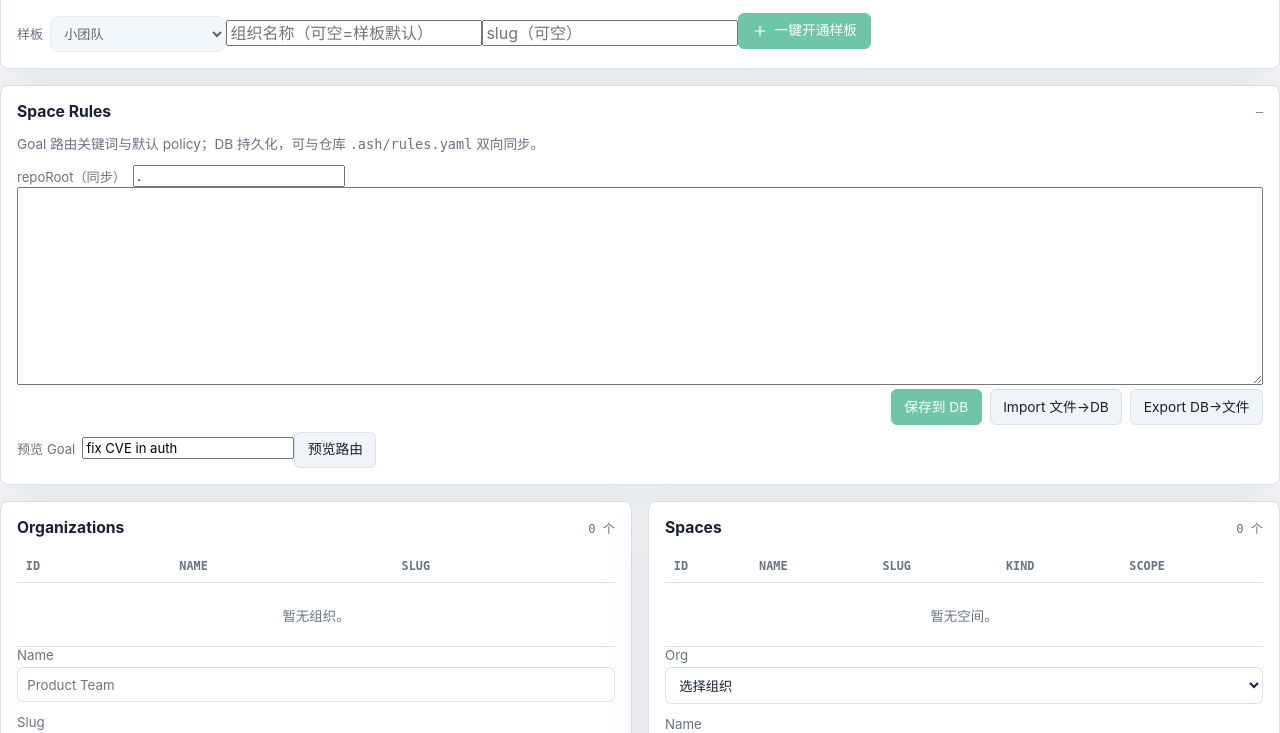
it: SpacePage › surfaces space rules preview API error message
(page scrolled)
Replace the text in the field with test id "space-rules-preview-goal" with "fix CVE": [188, 448] box top-left (82, 438), bottom-right (294, 460)
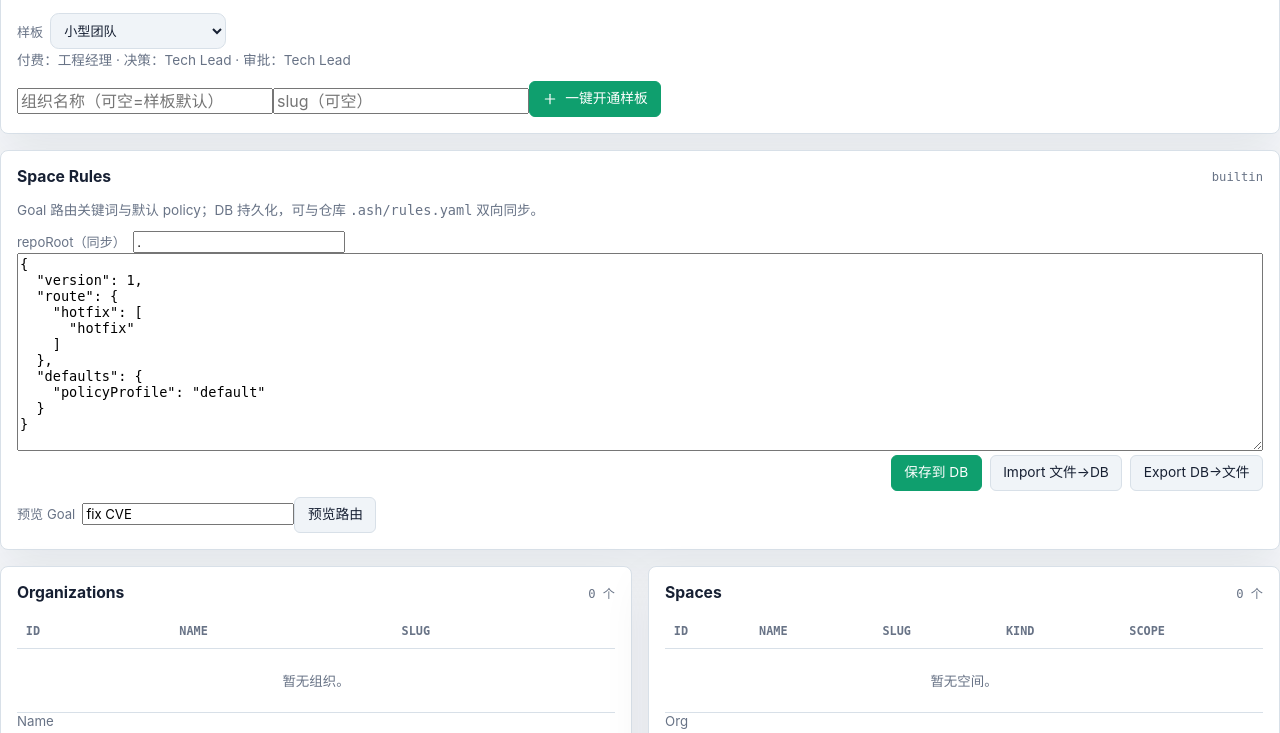
Click the button with test id "space-rules-preview": [335, 515] box top-left (294, 497), bottom-right (376, 533)
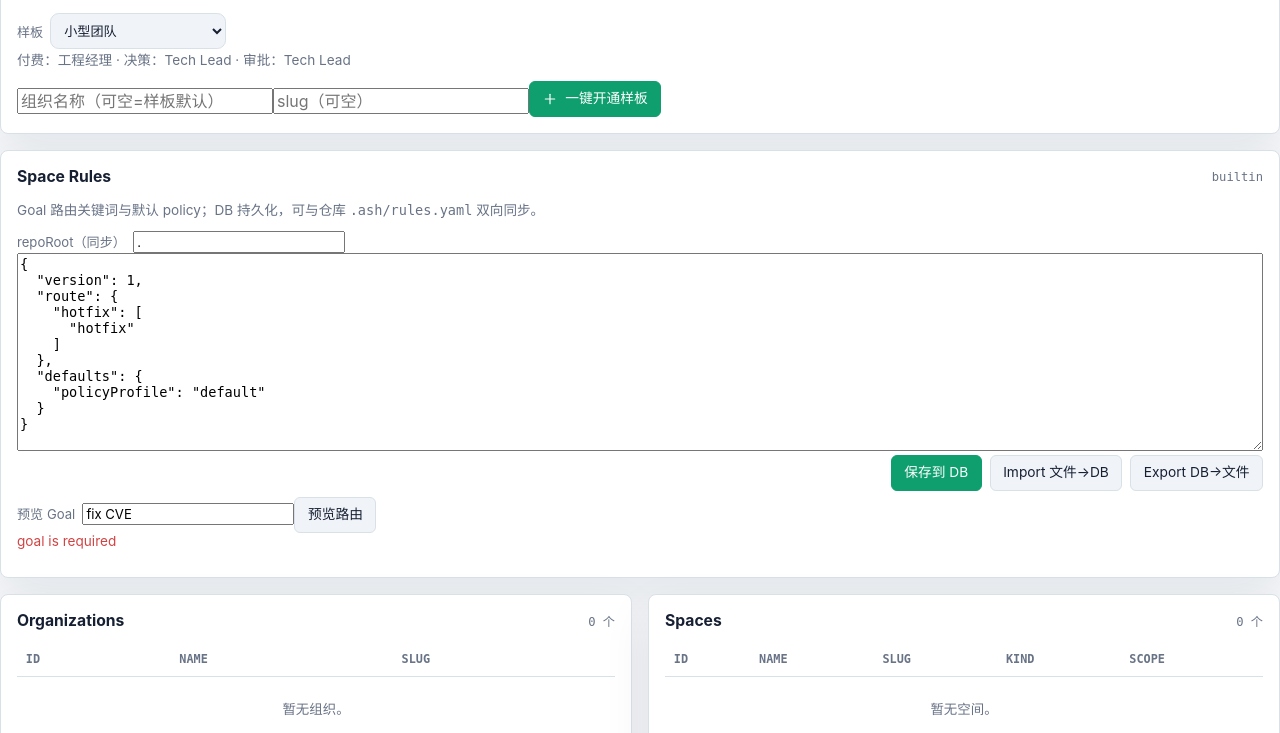
Check: the text with test id "space-rules-error" reads "goal is required", box top-left (17, 533), bottom-right (116, 549)
